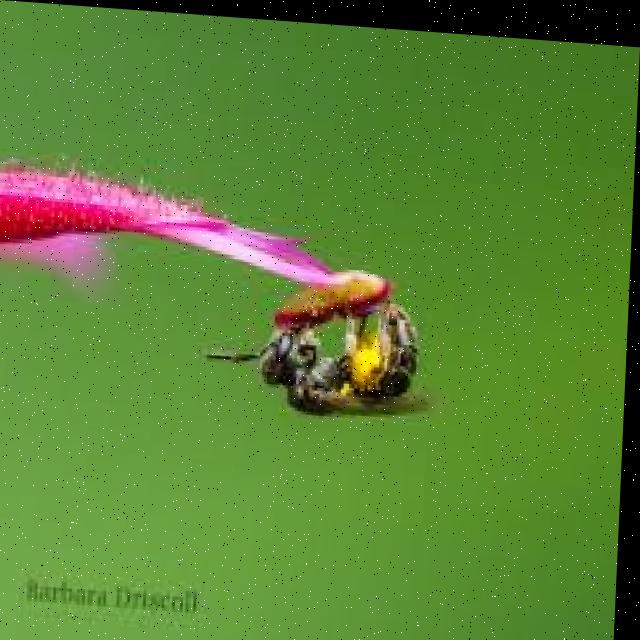Lasioglossum: (210, 252, 458, 431)
